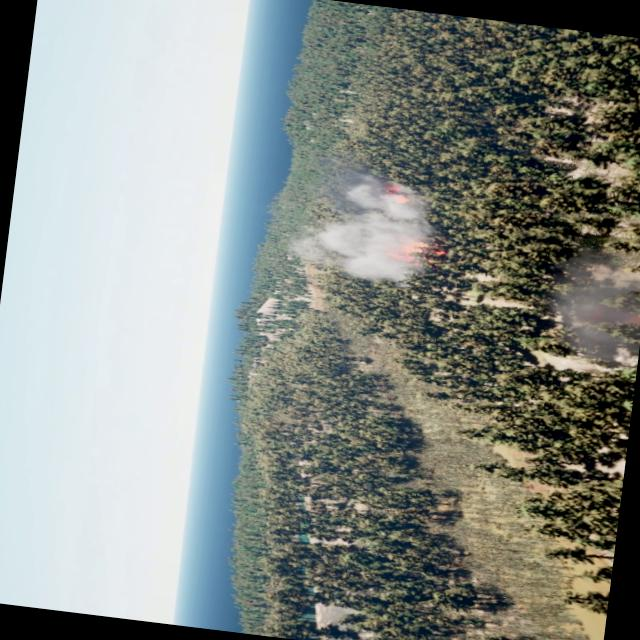fire: (381, 229, 446, 267), (364, 174, 415, 206)
smoke: (286, 162, 441, 290)
